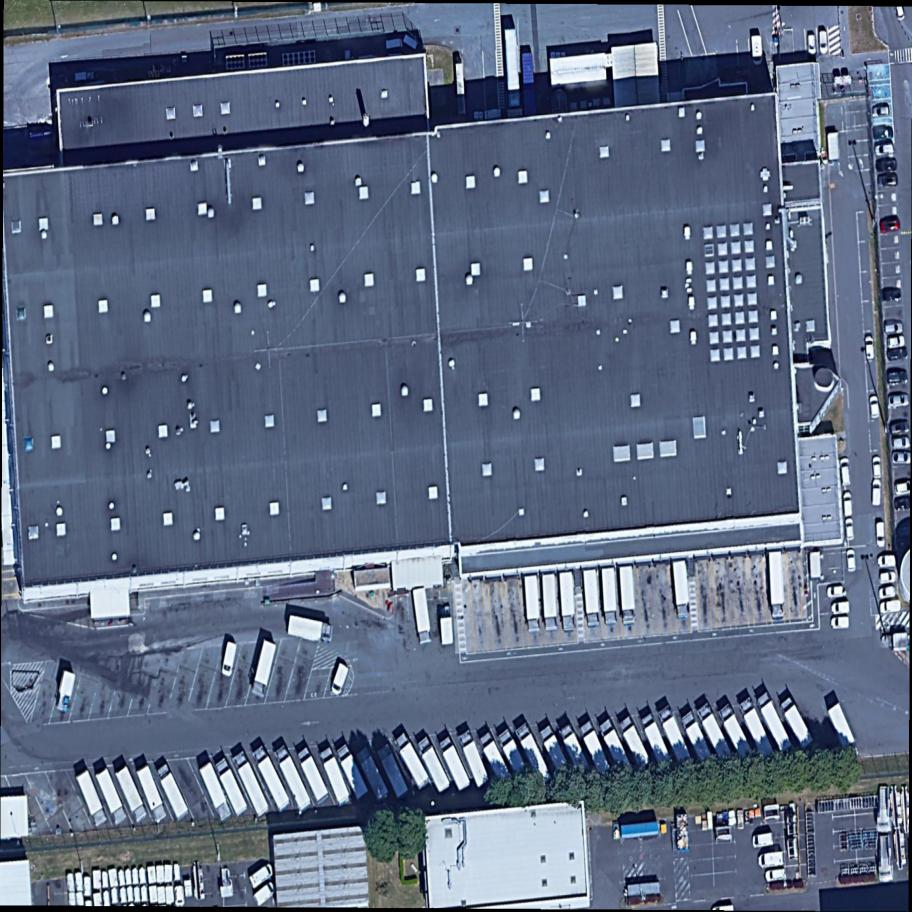large-vehicle: (251, 744, 293, 812), (272, 744, 313, 813), (230, 750, 271, 818), (512, 721, 554, 787), (736, 696, 776, 760), (390, 733, 433, 792), (694, 702, 734, 762), (755, 692, 794, 753), (715, 702, 755, 761), (412, 736, 452, 794), (655, 705, 693, 766), (293, 745, 331, 805), (353, 745, 391, 804), (318, 743, 353, 807), (825, 702, 862, 762), (198, 762, 235, 821), (93, 766, 129, 826), (113, 764, 149, 824), (594, 719, 633, 774), (155, 763, 191, 822), (375, 742, 411, 801), (74, 769, 110, 827), (457, 728, 491, 789), (576, 721, 613, 777), (214, 758, 249, 817), (494, 728, 532, 782), (334, 744, 370, 800), (436, 736, 472, 792), (135, 764, 169, 823), (779, 697, 816, 750), (476, 732, 513, 785), (616, 715, 652, 768), (557, 723, 592, 777), (537, 725, 573, 777), (637, 713, 672, 766), (677, 711, 712, 763), (250, 640, 278, 699), (287, 614, 335, 643), (412, 587, 433, 644), (582, 568, 601, 628), (768, 551, 784, 620), (672, 561, 690, 620), (559, 571, 576, 633), (618, 565, 635, 626), (601, 567, 618, 627), (524, 575, 541, 634), (542, 574, 559, 632), (438, 605, 454, 646)
small-vehicle: (245, 862, 278, 890), (251, 880, 280, 907), (328, 662, 350, 696), (220, 642, 238, 678), (757, 851, 785, 869), (751, 832, 775, 849), (751, 35, 763, 66), (888, 371, 909, 388), (876, 157, 898, 173), (839, 457, 851, 486), (764, 868, 787, 883), (877, 172, 898, 188), (880, 218, 901, 234), (878, 600, 902, 614), (888, 394, 910, 409), (889, 421, 911, 436), (894, 495, 912, 512), (874, 125, 894, 140), (872, 479, 882, 508), (878, 585, 897, 600), (887, 335, 906, 350), (875, 143, 895, 157), (891, 435, 911, 449), (842, 492, 853, 517), (888, 348, 909, 361), (831, 601, 850, 615), (871, 455, 882, 479), (869, 395, 880, 419), (830, 617, 850, 630), (884, 321, 904, 334), (892, 451, 912, 464), (846, 549, 857, 572), (845, 517, 855, 542), (876, 522, 886, 547), (865, 336, 875, 361), (882, 289, 901, 302), (878, 555, 896, 568), (872, 106, 890, 119), (879, 571, 897, 584), (826, 587, 847, 598), (807, 33, 817, 55), (819, 31, 828, 55), (895, 5, 906, 22), (712, 905, 735, 911)
